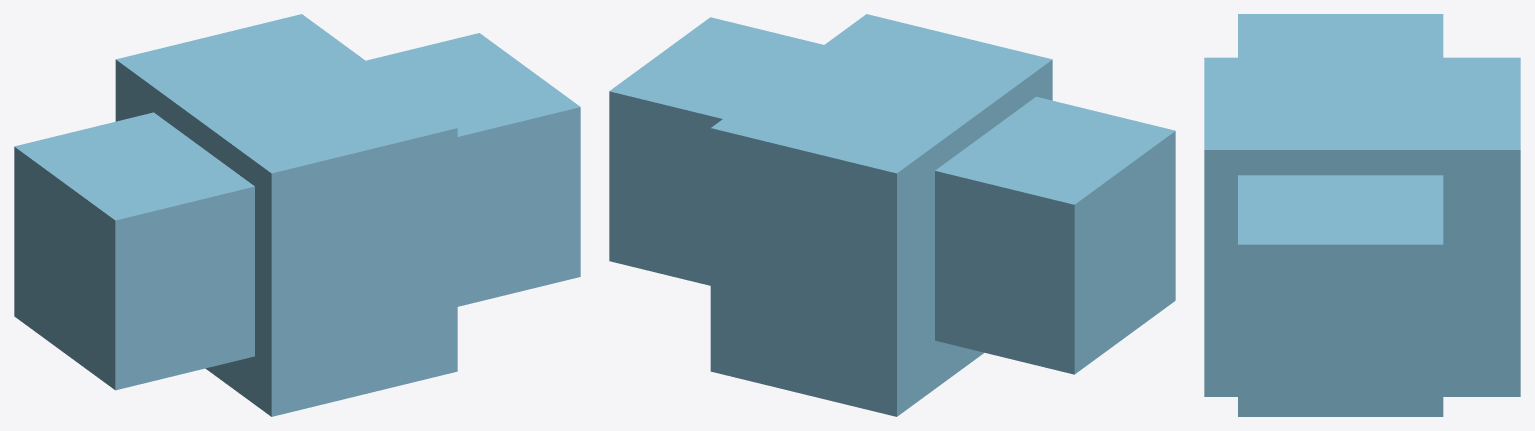
Rendered from chars_bb.fbx.
The picture shows the model from 3 angles, left to right: view 1: azimuth 30°, elevation 25°; view 2: azimuth 150°, elevation 25°; view 3: azimuth 270°, elevation 25°; orthographic projection.
Parts seen in each view (by area): view 1: Cube.003, Cube.000; view 2: Cube.000, Cube.003; view 3: Cube.000, Cube.003.
Part boxes in pixels (x1,y1,x2,y2): Cube.003: [14, 33, 580, 390]; Cube.000: [115, 14, 457, 416]; Cube.000: [710, 14, 1052, 416]; Cube.003: [609, 17, 1175, 374]; Cube.000: [1204, 57, 1520, 396]; Cube.003: [1238, 14, 1443, 416].
Size of the model in its own units: 500 by 250 by 290.
